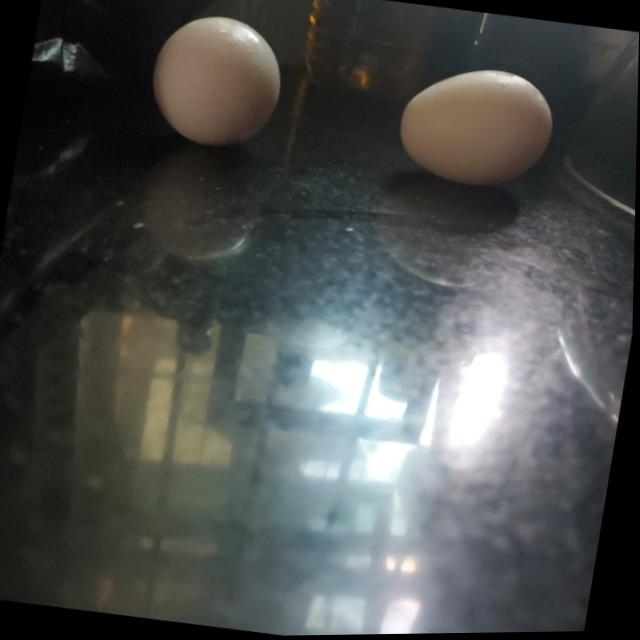egg: (387, 62, 559, 201), (139, 1, 290, 151)
